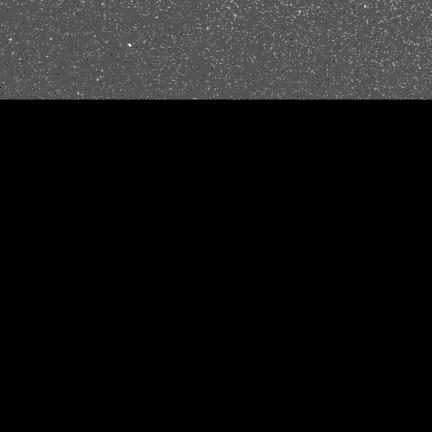blob: (128, 44, 132, 47)
